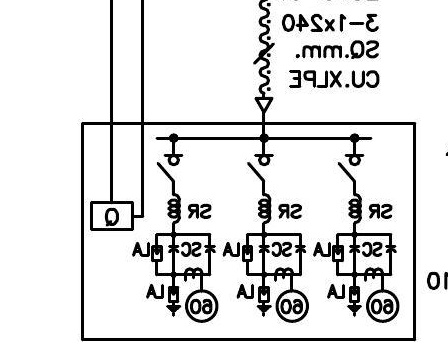22_cap_bank: (80, 121, 417, 342)
Q: (89, 200, 135, 232)
terminator_single: (254, 96, 275, 114)
